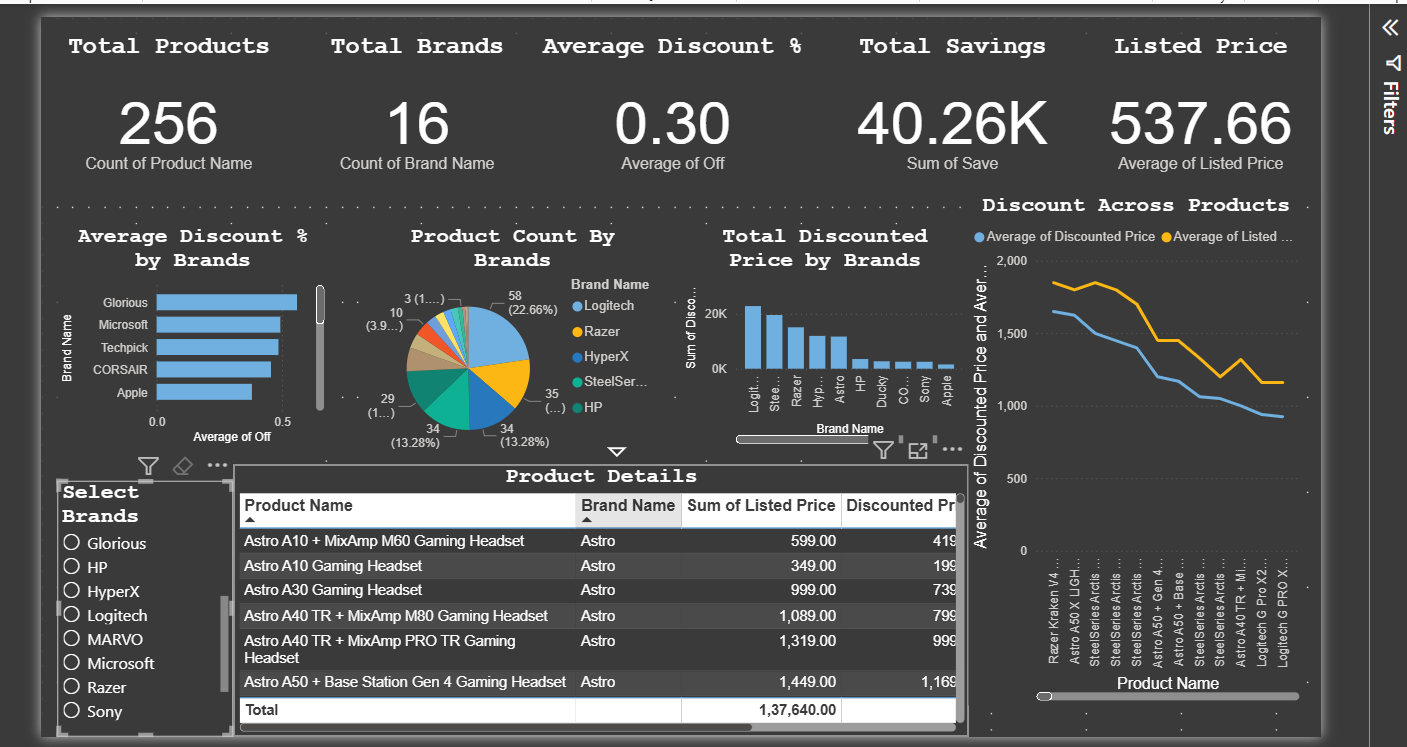

Layout of this report page (visuals, bound fields, positions):
{"tool":"powerbi","page":{"name":"Page 1","canvas":[1280,720],"ordinal":0},"visuals":[{"type":"card","title":"Total Products","fields":{"Values":["CountNonNull(New folder.Product Name)"]},"box":[0,16,256,160],"z":0},{"type":"card","title":"Listed Price","fields":{"Values":["Avg(New folder.Listed Price)"]},"box":[1040,16,240,160],"z":1000},{"type":"card","title":"Average Discount %","fields":{"Values":["Avg(New folder.Off)"]},"box":[480,16,304,160],"z":2000},{"type":"card","title":"Total Savings","fields":{"Values":["Sum(New folder.Save)"]},"box":[784,16,256,160],"z":3000},{"type":"card","title":"Total Brands","fields":{"Values":["Count(New folder.Brand Name)"]},"box":[256,16,240,160],"z":4000},{"type":"clusteredBarChart","title":"Average Discount % by Brands","fields":{"Category":["New folder.Brand Name"],"Y":["Avg(New folder.Off)"]},"box":[16,208,272,224],"z":5000},{"type":"pieChart","title":"Product Count By Brands","fields":{"Y":["CountNonNull(New folder.Product Name)"],"Category":["New folder.Brand Name"]},"box":[320,208,304,240],"z":6000},{"type":"clusteredColumnChart","title":"Total Discounted Price by Brands","fields":{"Category":["New folder.Brand Name"],"Y":["Sum(New folder.Discounted Price)"]},"box":[640,208,288,224],"z":7000},{"type":"tableEx","title":"Product Details","fields":{"Values":["New folder.Product Name","New folder.Brand Name","Sum(New folder.Listed Price)","New folder.Discounted Price","Avg(New folder.Off)","Avg(New folder.Save)"]},"box":[192,448,736,272],"z":8000},{"type":"listSlicer","title":"Select Brands","fields":{"Values":["New folder.Brand Name"]},"box":[16,464,176,256],"z":9000},{"type":"lineChart","title":"Discount Across Products","fields":{"Y":["Avg(New folder.Discounted Price)","Avg(New folder.Listed Price)"],"Category":["New folder.Product Name"]},"box":[928,176,336,512],"z":10000}]}

Visuals, with their boxes on the page's 1280x720 design canvas (x1, y1, x2, y2). These are canvas units, not pixel positions in the 1407x747 screenshot, which may show the page scaled, cropped or inside an application window:
"Total Products" card: 0 16 256 176
"Listed Price" card: 1040 16 1280 176
"Average Discount %" card: 480 16 784 176
"Total Savings" card: 784 16 1040 176
"Total Brands" card: 256 16 496 176
"Average Discount % by Brands" clusteredBarChart: 16 208 288 432
"Product Count By Brands" pieChart: 320 208 624 448
"Total Discounted Price by Brands" clusteredColumnChart: 640 208 928 432
"Product Details" tableEx: 192 448 928 720
"Select Brands" listSlicer: 16 464 192 720
"Discount Across Products" lineChart: 928 176 1264 688
